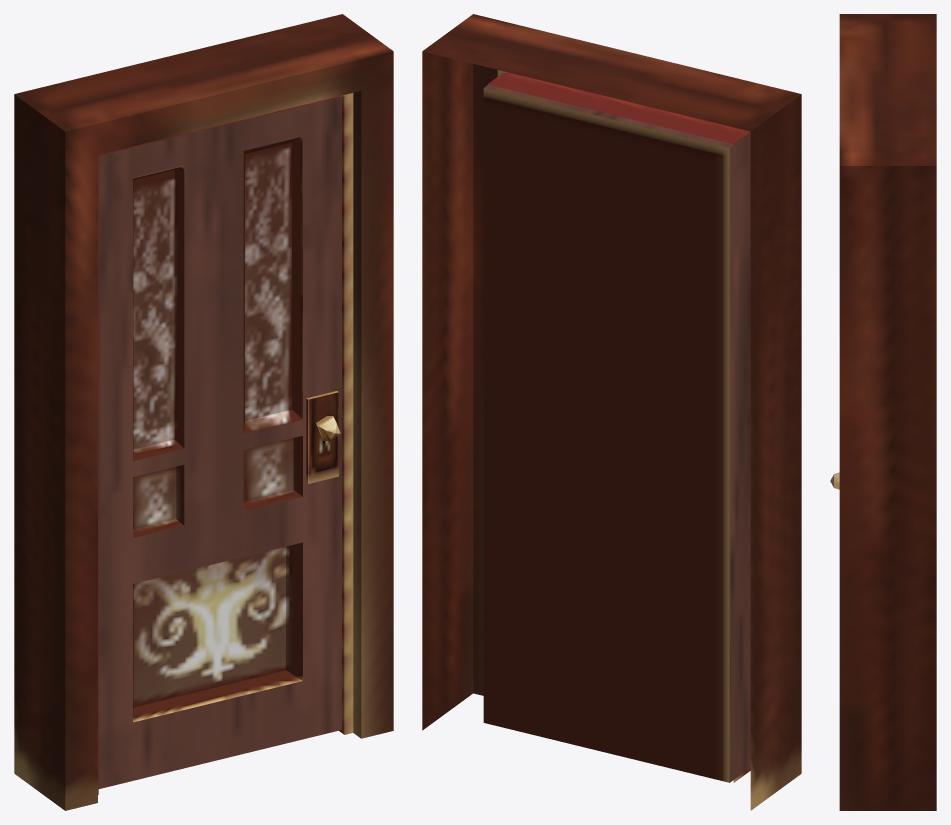
Rendered from door.fbx.
3 views of the same model, side by side, from view 1: azimuth 30°, elevation 25°; view 2: azimuth 150°, elevation 25°; view 3: azimuth 270°, elevation 25° (orthographic). The views are drawn at different scales.
Visible parts, largest first — view 1: porta; view 2: porta; view 3: porta.
Part boxes in pixels (x1,y1,x2,y2): porta: (14,14,393,810); porta: (422,14,801,810); porta: (830,14,936,810).
Size of the model in its own units: 702 by 1388 by 208.
